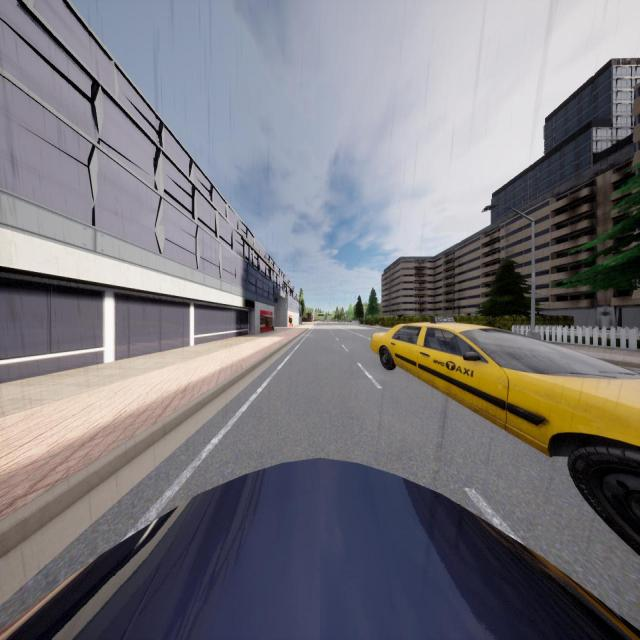Vehicle: (0, 456, 640, 640), (371, 316, 640, 548), (347, 320, 353, 324)
